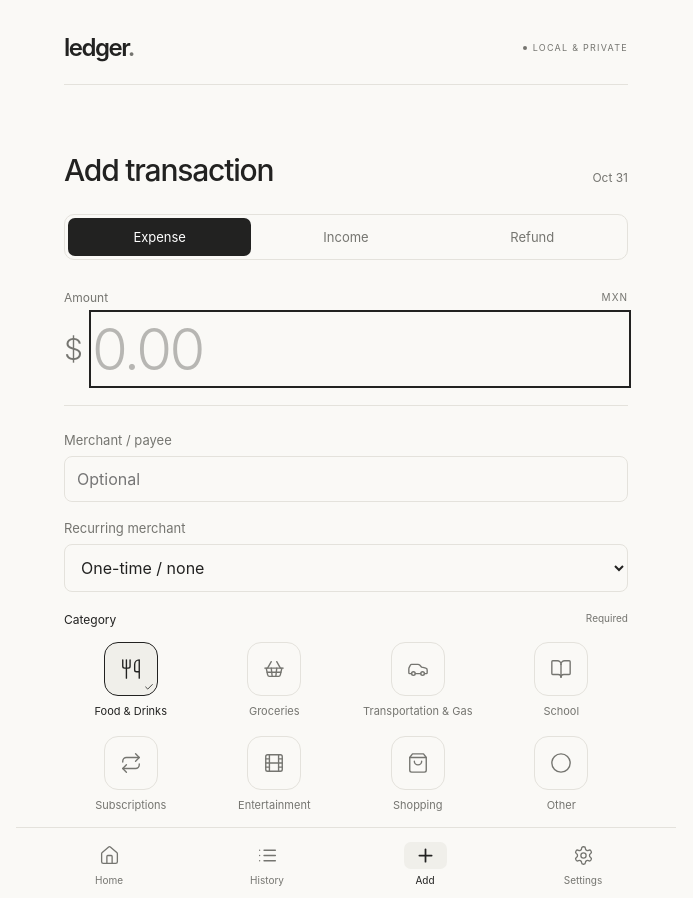
Test: Ledger 1.2 merchant and mandatory payment interactions › requires explicit Expense payment selection and accepts predefined, managed or custom values
The image size is (693, 898).
Expected: the heading "Add transaction" is shown, [64,153,273,188]
Click the button "Expense".
click(160, 236)  # box [68,218,251,256]
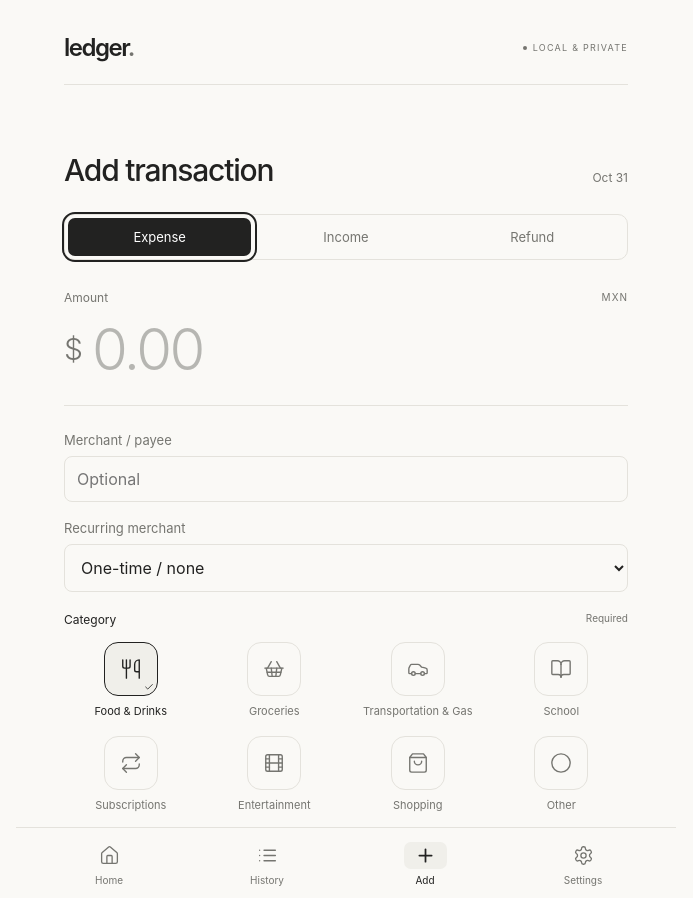
Type "12" into the field labelled "Amount".
click(360, 348); type("12")  # box [92,312,628,384]
(page scrolled)
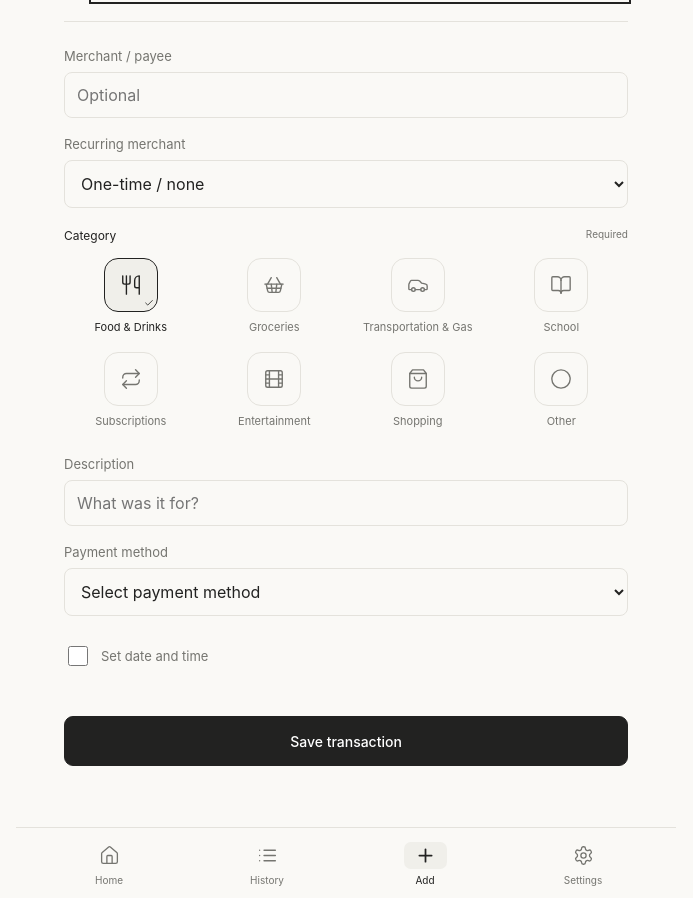
Click the button "Save transaction".
click(346, 741)  # box [64,716,628,766]
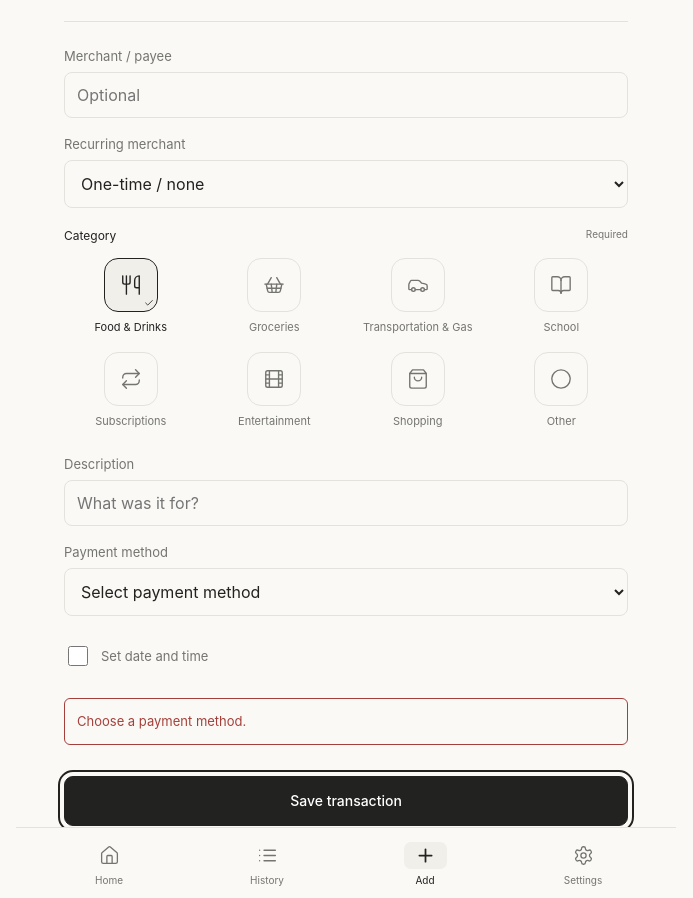
Expected: the message shows "Choose a payment method", [77,713,246,729]
Select "Cash" in the dropdown labelled "Payment method" at point(346, 592), box [64,568,628,616]
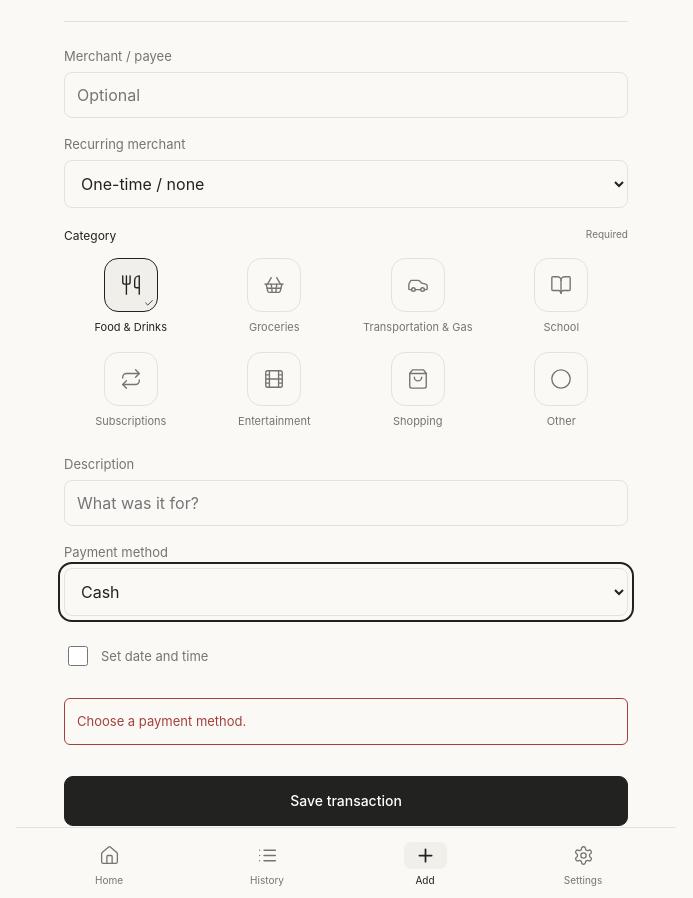
Click the button "Save transaction".
click(346, 801)  # box [64,776,628,826]
(page scrolled)
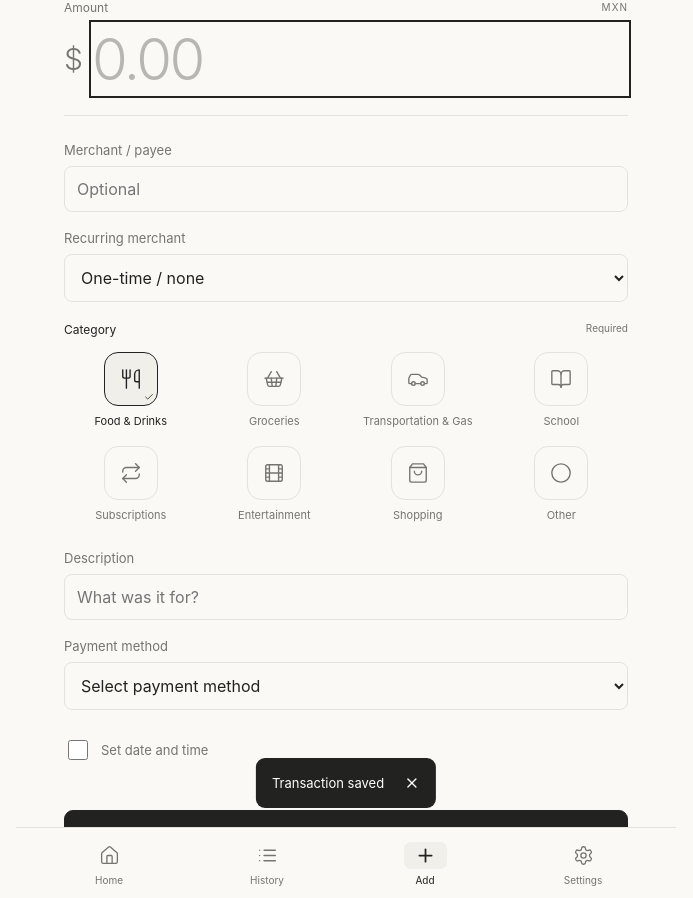
Expected: the dropdown labelled "Payment method" shows "Select payment method", [64,662,628,710]
